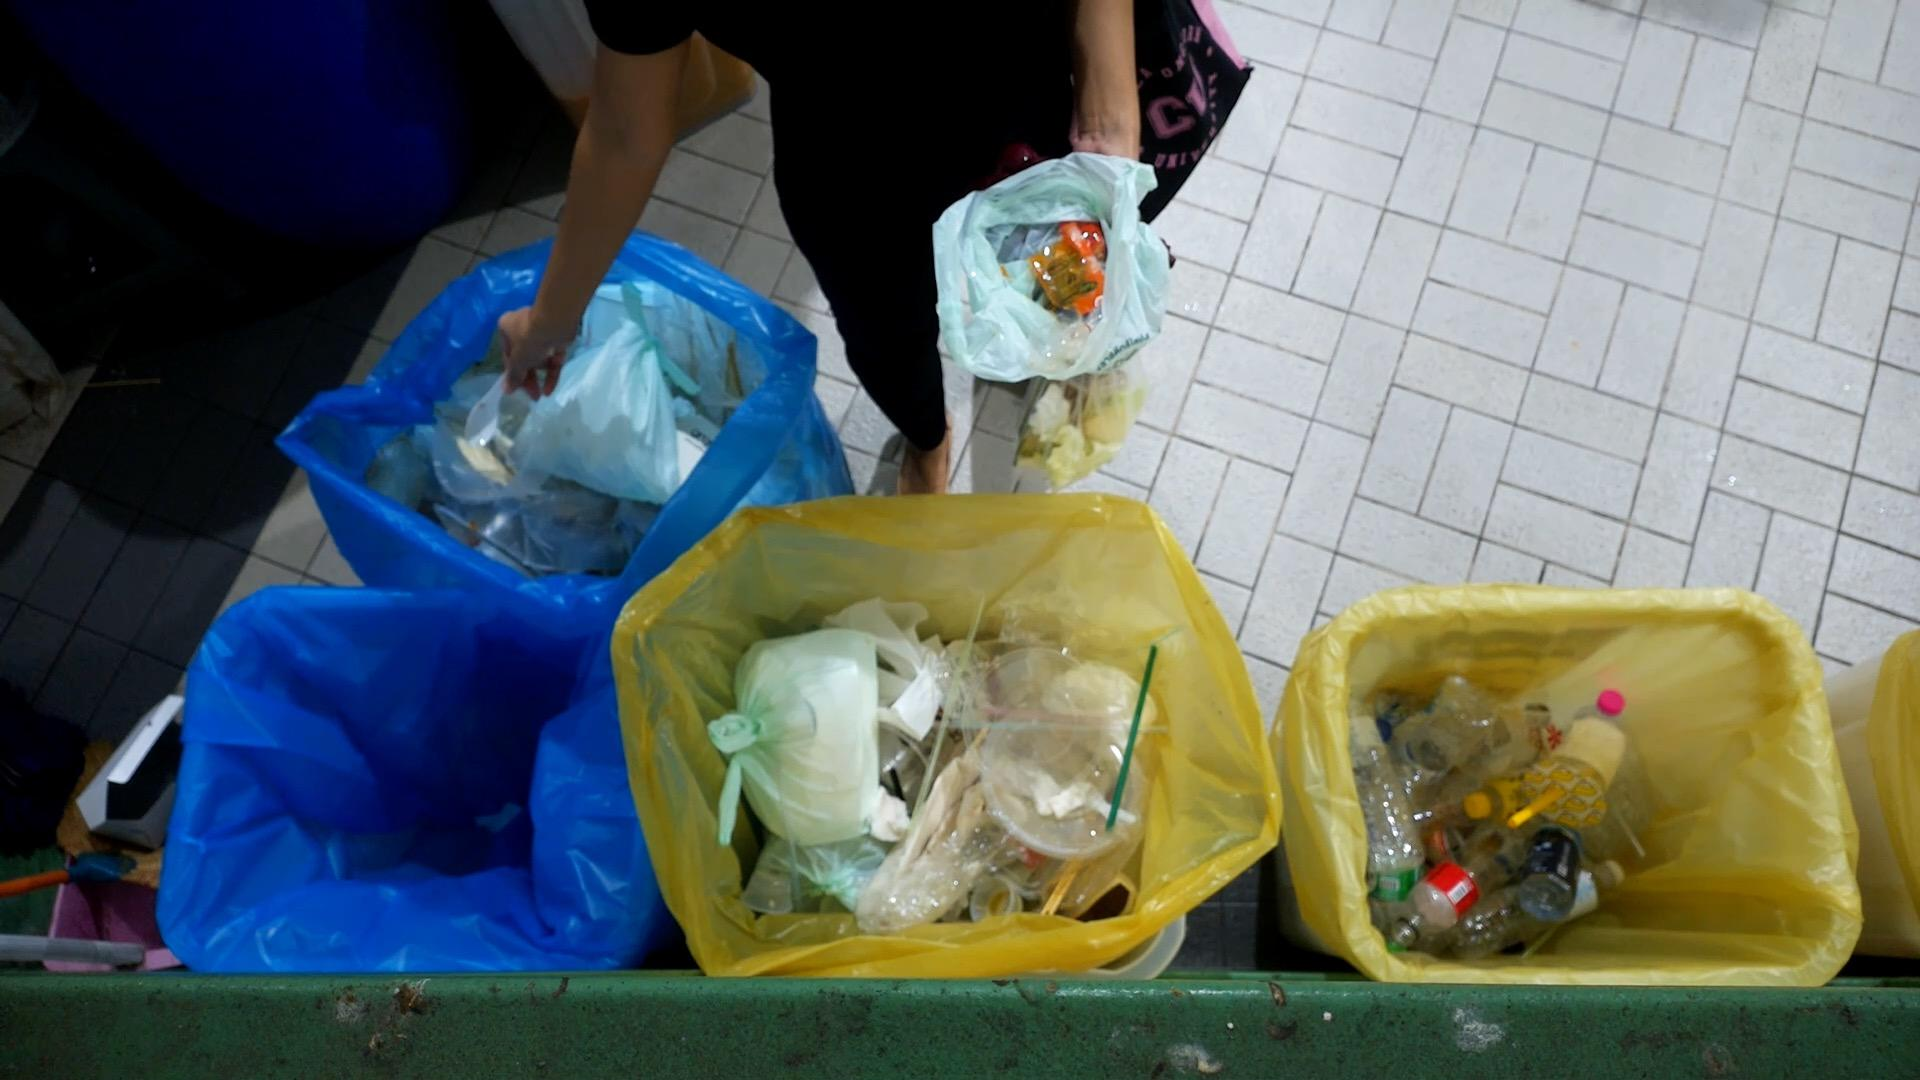can: (1522, 803, 1585, 928)
filled plastic bag: (935, 153, 1172, 382), (497, 277, 708, 508), (709, 626, 884, 849), (1013, 355, 1139, 488)
food container: (981, 705, 1147, 858), (430, 372, 563, 505), (965, 874, 1023, 930), (740, 872, 796, 918)
plastic bottle: (1381, 803, 1542, 947), (1453, 855, 1625, 960), (1342, 695, 1437, 874), (1395, 675, 1498, 799), (1572, 698, 1633, 796)
plastic cup: (1520, 712, 1623, 829)
plastic cutlery: (468, 352, 510, 447), (1056, 785, 1135, 820)
snack packaging: (1029, 216, 1108, 319)
sticks: (1042, 852, 1089, 924)
straw: (898, 593, 986, 858), (1104, 642, 1163, 829), (769, 756, 808, 913), (977, 703, 1138, 725), (914, 724, 1168, 735), (1507, 787, 1563, 829)
tissue paper: (1545, 717, 1631, 789), (866, 785, 913, 849), (1029, 765, 1060, 819)
